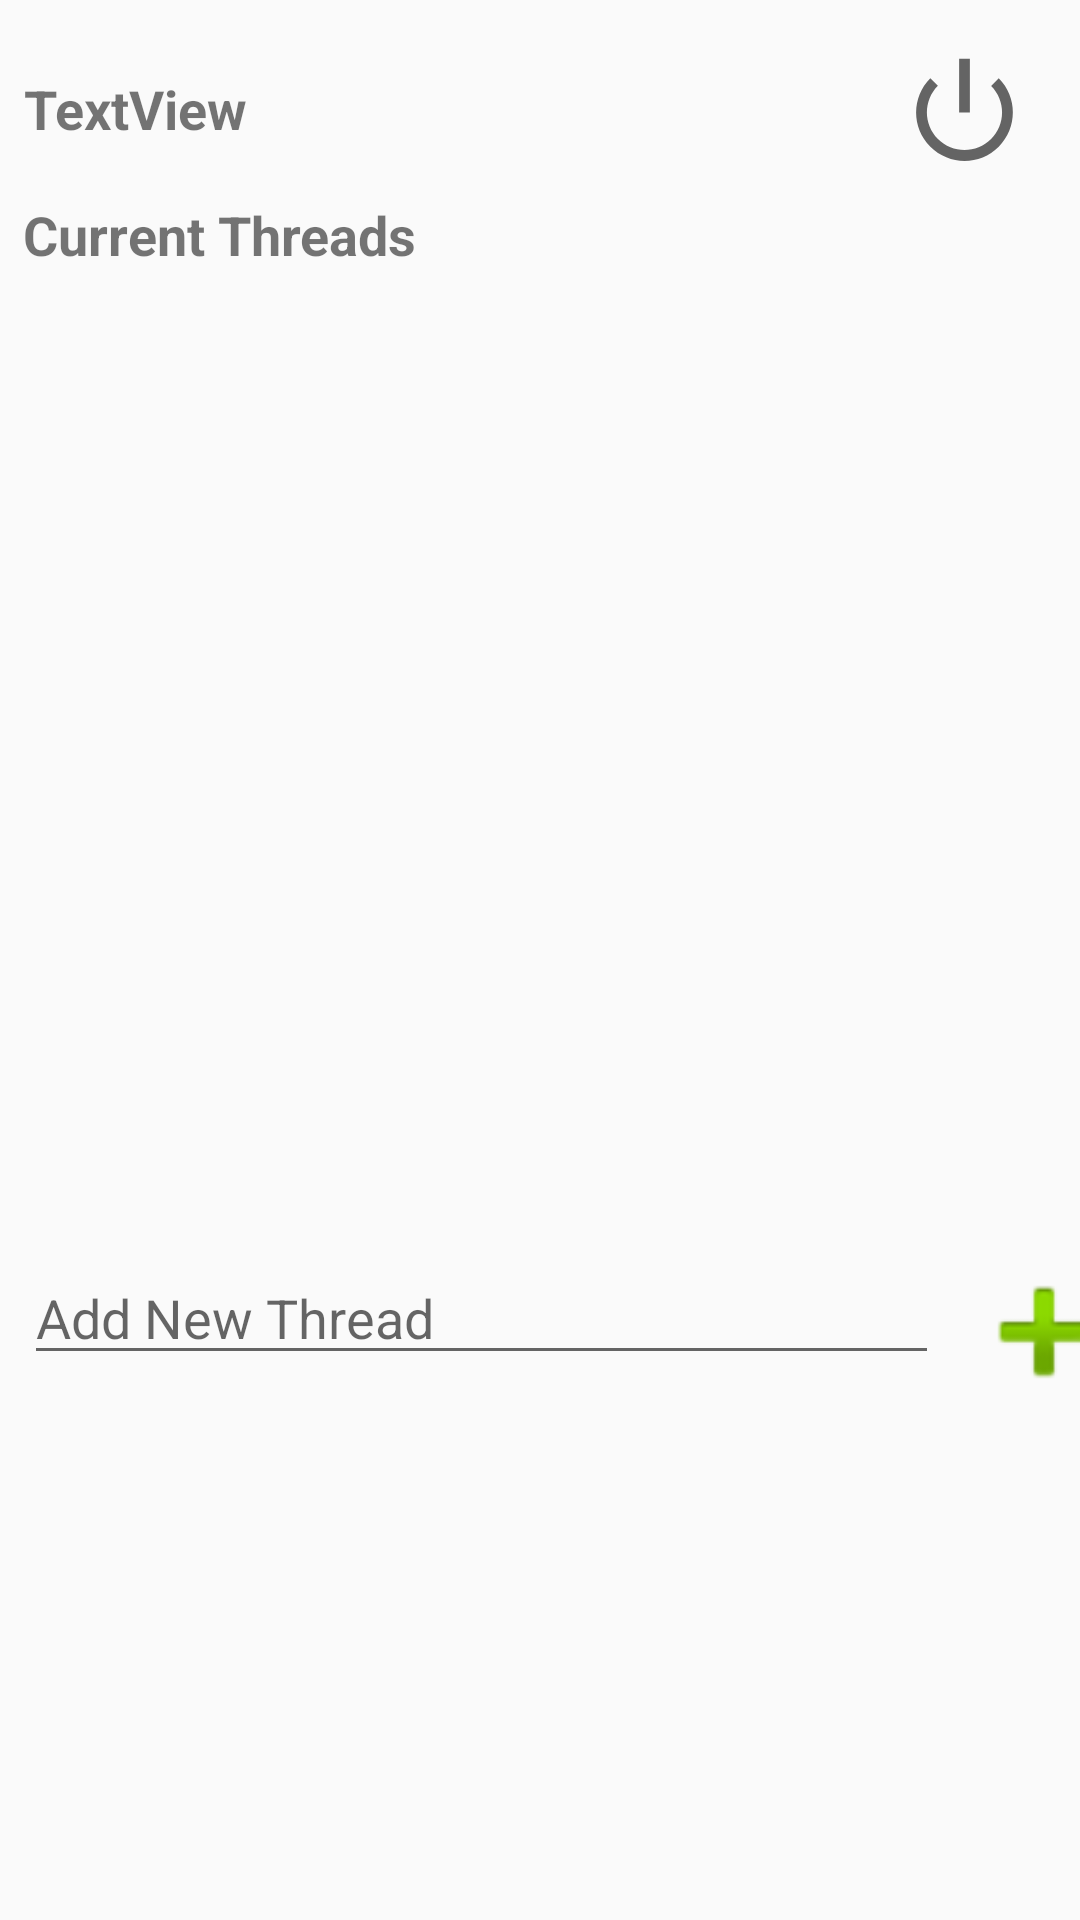

Named icons in this screenshot (1080x1920) and their bounding boxes, (x1, y1, x2, y2):
lock power off: (916, 58, 1013, 161)
